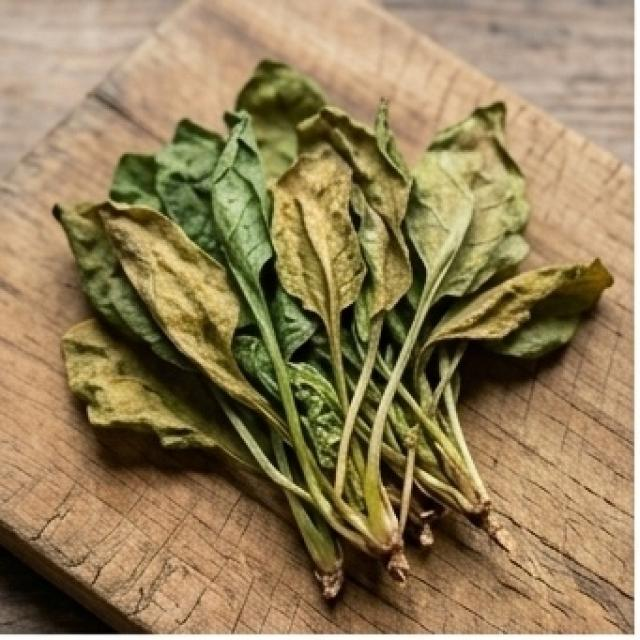rotten spinach: (18, 38, 629, 628)
